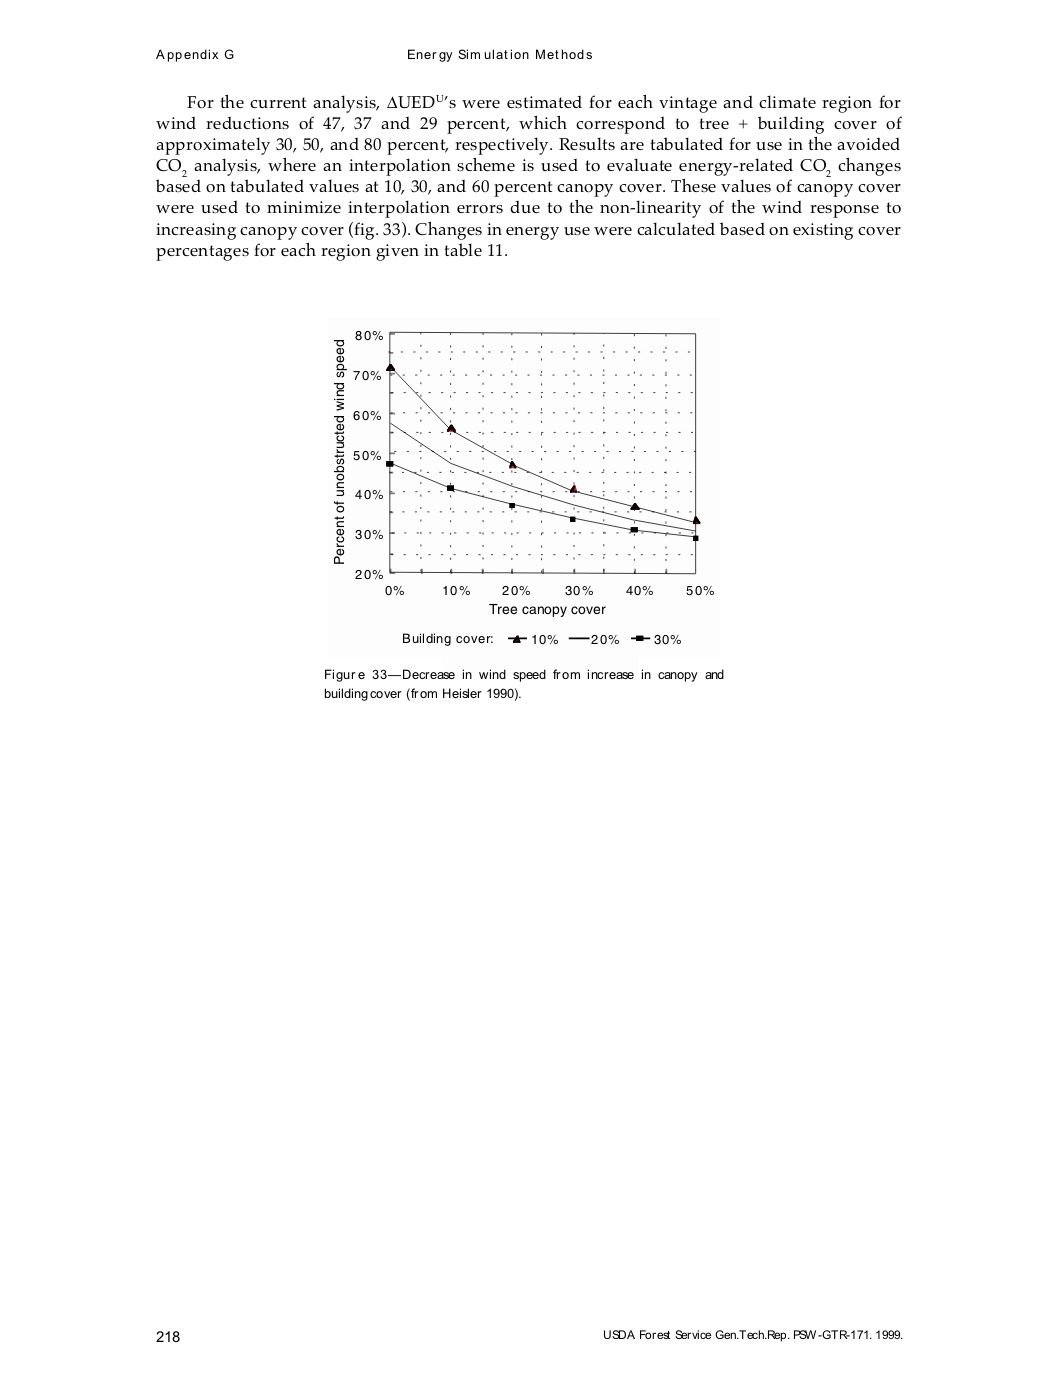figure: (333, 330, 713, 645)
